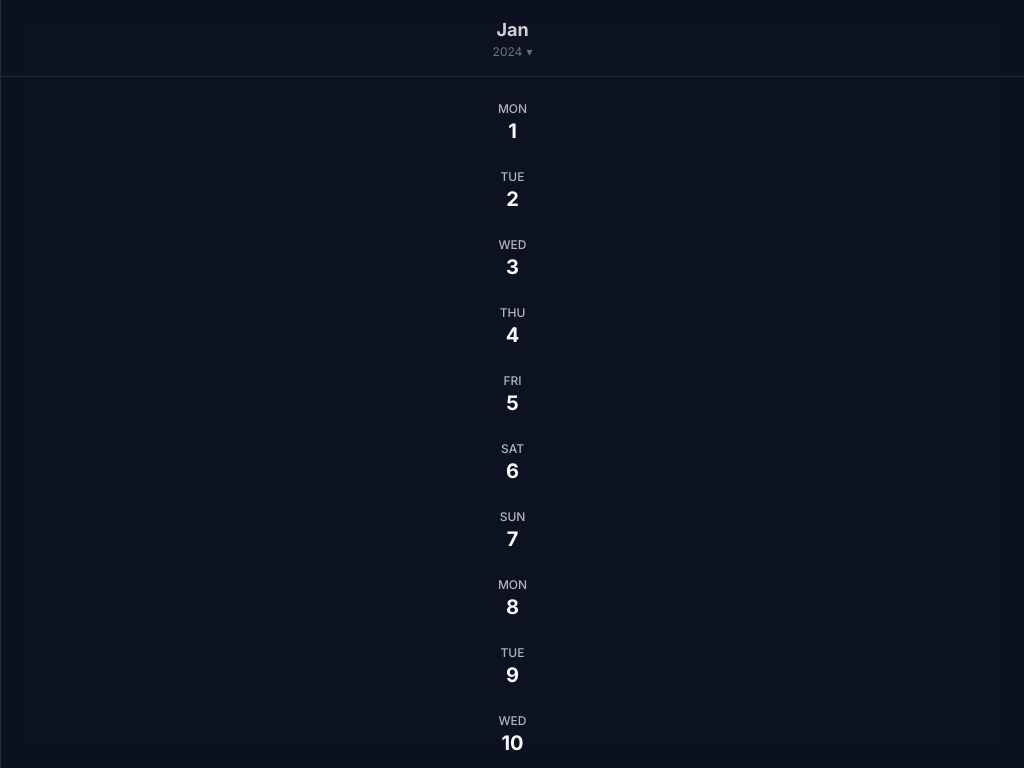
VerticalCalendar › Month Picker › navigates picker year with previous and next controls
Click the button "Jan 2024 ▾" at (512, 38), box [1,0,1023,77]
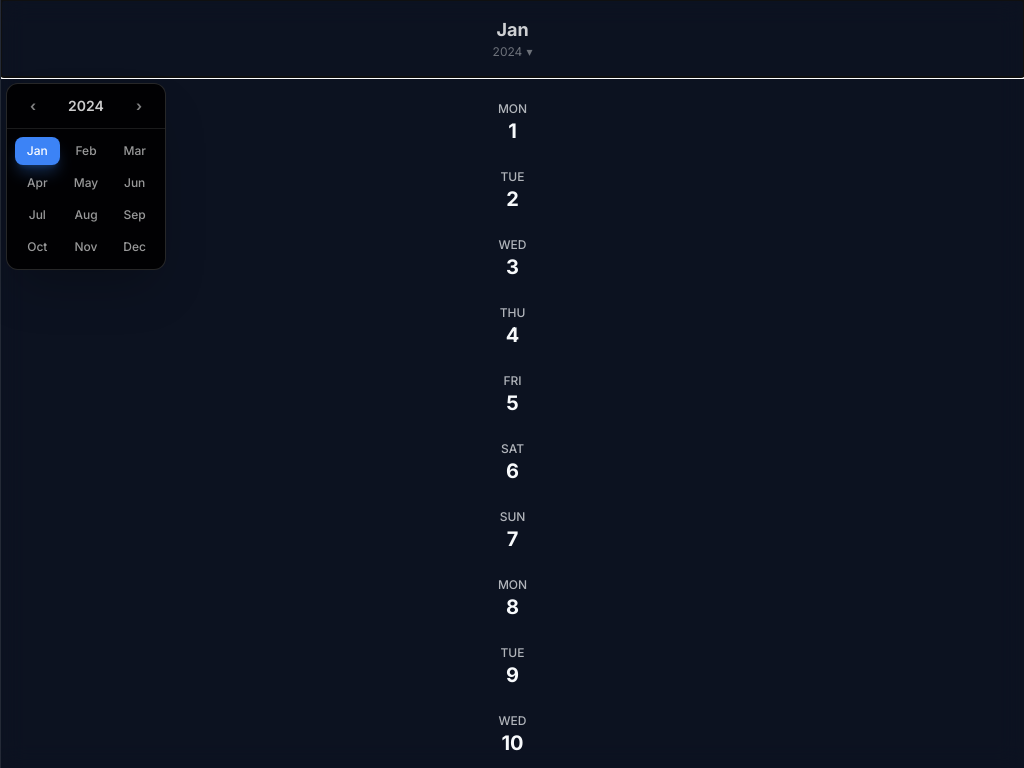
Expected: the text "2024" is shown, [68,96,104,116]
Click the button "‹" at (33, 106), box [19,92,47,120]
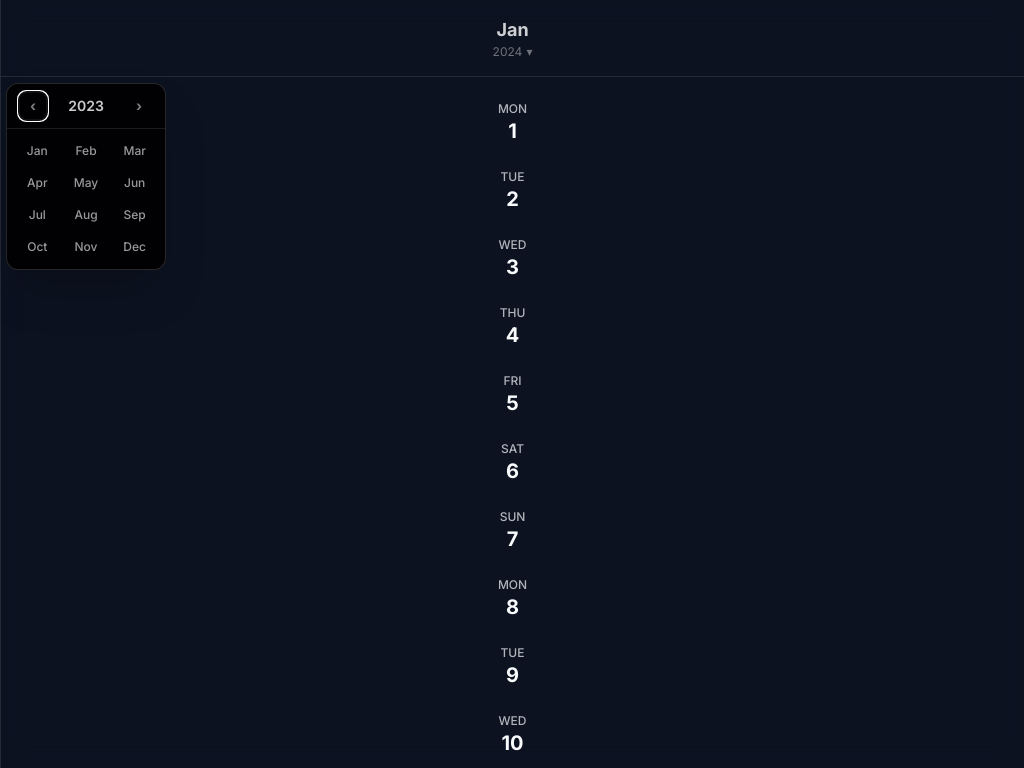
Expected: the text "2023" is shown, [68,96,104,116]
Click the button "›" at (139, 106), box [125,92,153,120]
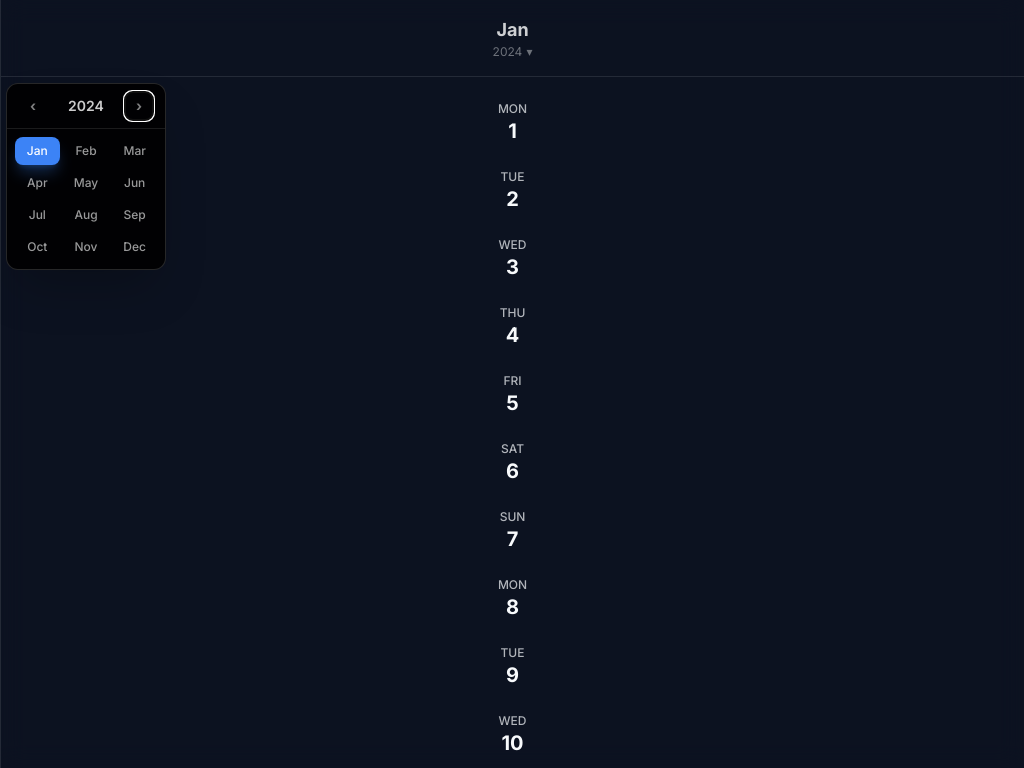
Expected: the text "2024" is shown, [68,96,104,116]
